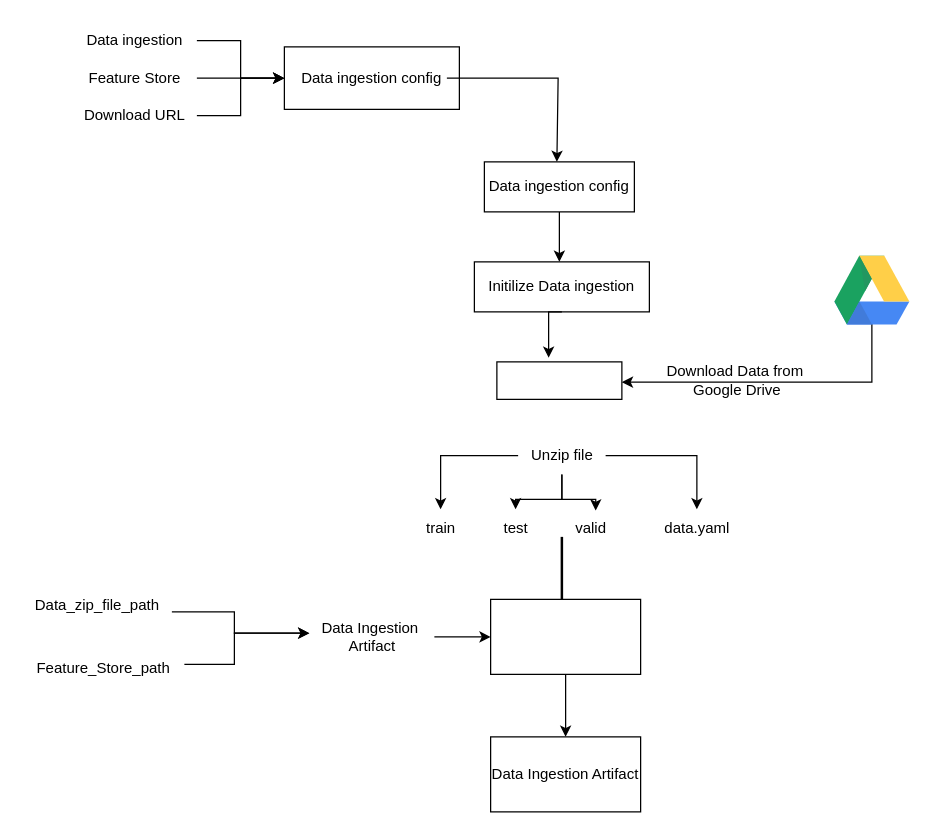
Some shapes in this 931 by 834 pixel diagram are drawn without their labels. Each missing label, with the box of its shape:
data.zip: (496, 361, 622, 399)
Prepare Data for Ingestion Artifact: (489, 598, 641, 674)
